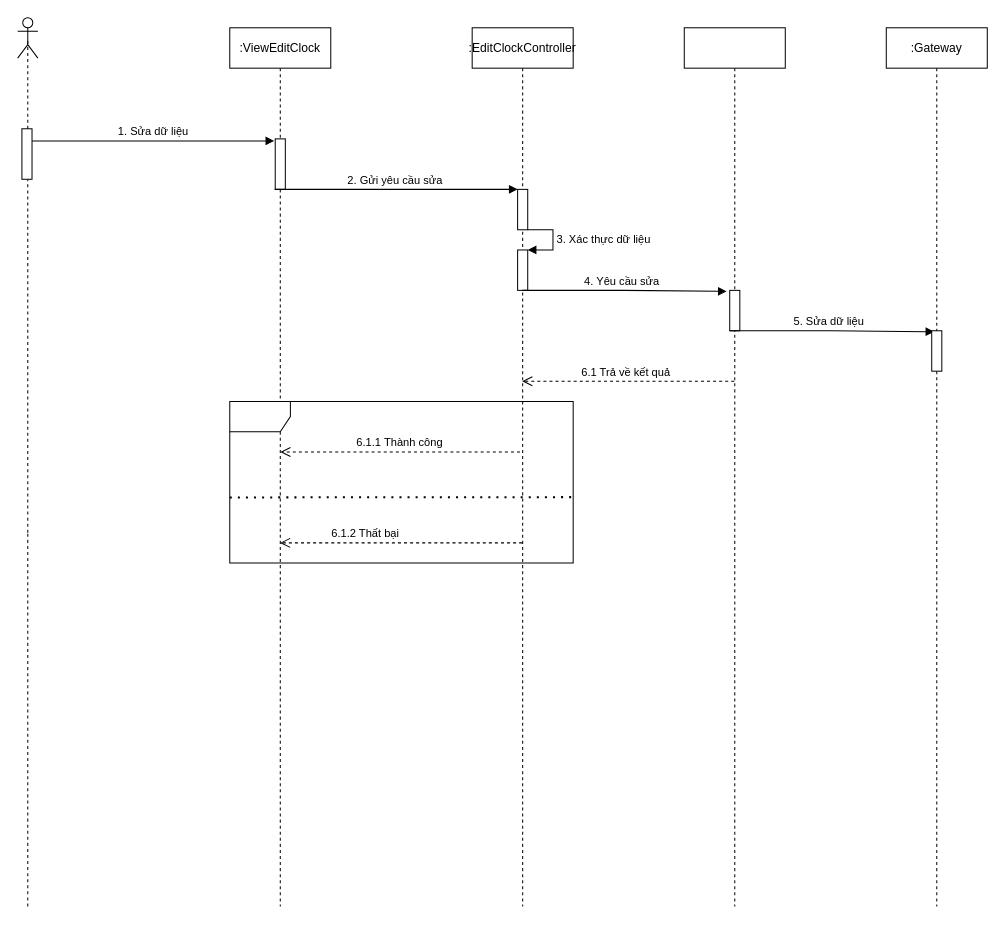
Image size: 1005x925. Some labels were removed from this diagram. Here are the shapes that lost their labels. From the top down, the box of each, then its label:
(229, 400, 573, 563): alt status
(683, 27, 785, 906): :Clock
